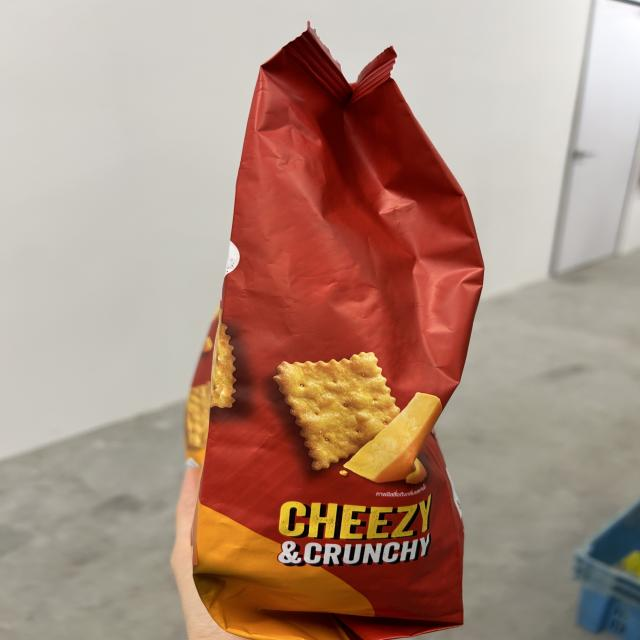object_name: (222, 42, 464, 626)
